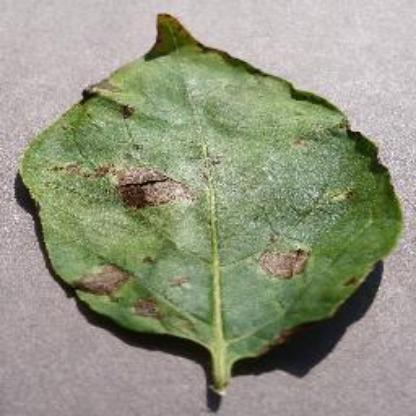Early-Blight: (16, 13, 404, 400)
